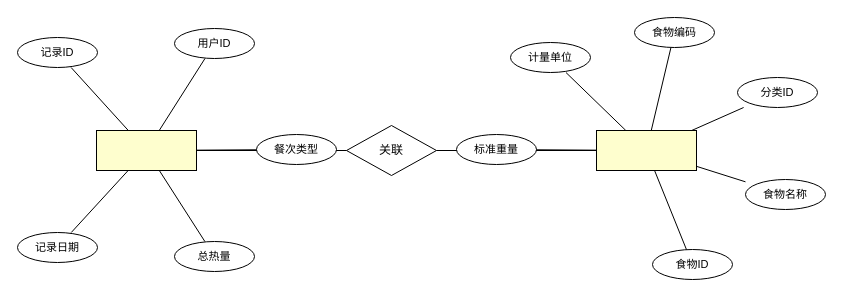
This 843x297 diagram has some shape labels left out. Here are the shapes that lost their labels. From the top down, the centre of each, then its label:
At pixel 146 150: "饮食记录".
At pixel 646 150: "食物信息".
